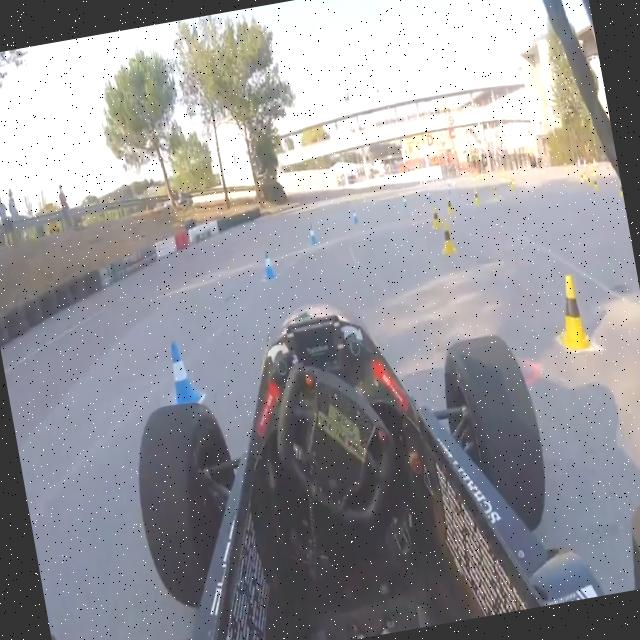blue_cone: (163, 337, 199, 408), (260, 249, 275, 281), (306, 221, 318, 245), (400, 192, 408, 211), (351, 208, 358, 225), (425, 188, 432, 204)
yellow_cone: (551, 270, 590, 353), (438, 220, 455, 257), (614, 174, 624, 198), (430, 207, 440, 229), (490, 180, 500, 200), (444, 197, 454, 215), (591, 174, 600, 194), (472, 187, 480, 205), (585, 172, 593, 190)
